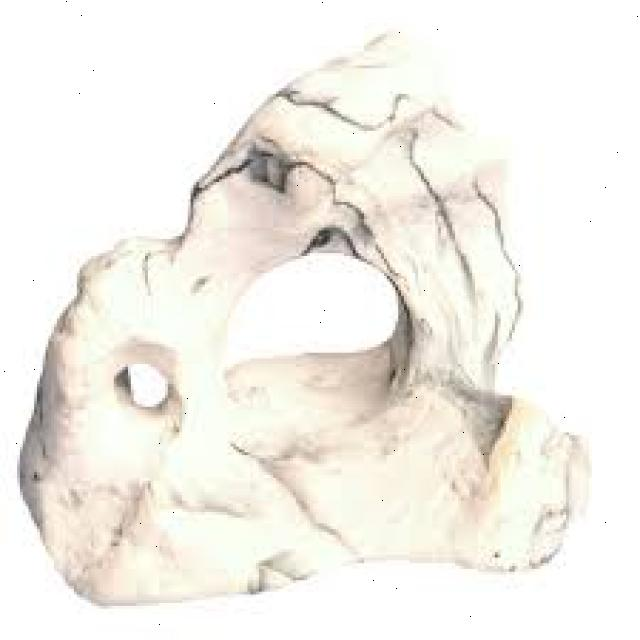Metamorphic: (17, 40, 597, 609)
